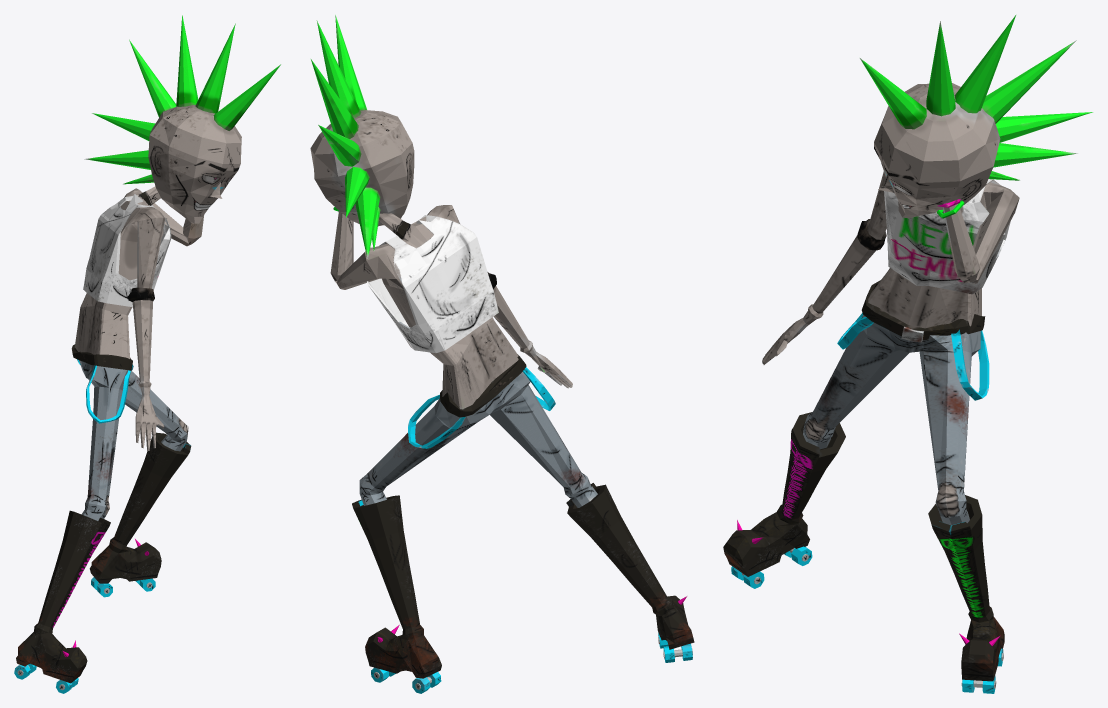
File: punkAnimation_000059.obj
3 views of the same model, side by side, from view 1: azimuth 30°, elevation 25°; view 2: azimuth 150°, elevation 25°; view 3: azimuth 270°, elevation 25° (orthographic). The views are drawn at different scales.
Parts seen in each view (by area): view 1: Cube.004_Cube.003; view 2: Cube.004_Cube.003; view 3: Cube.004_Cube.003.
Part boxes in pixels (<box>): Cube.004_Cube.003: <box>14,15,280,693</box>; Cube.004_Cube.003: <box>310,15,694,693</box>; Cube.004_Cube.003: <box>723,15,1092,693</box>.
Size of the model in its own units: 3.68 by 6.67 by 3.11.
